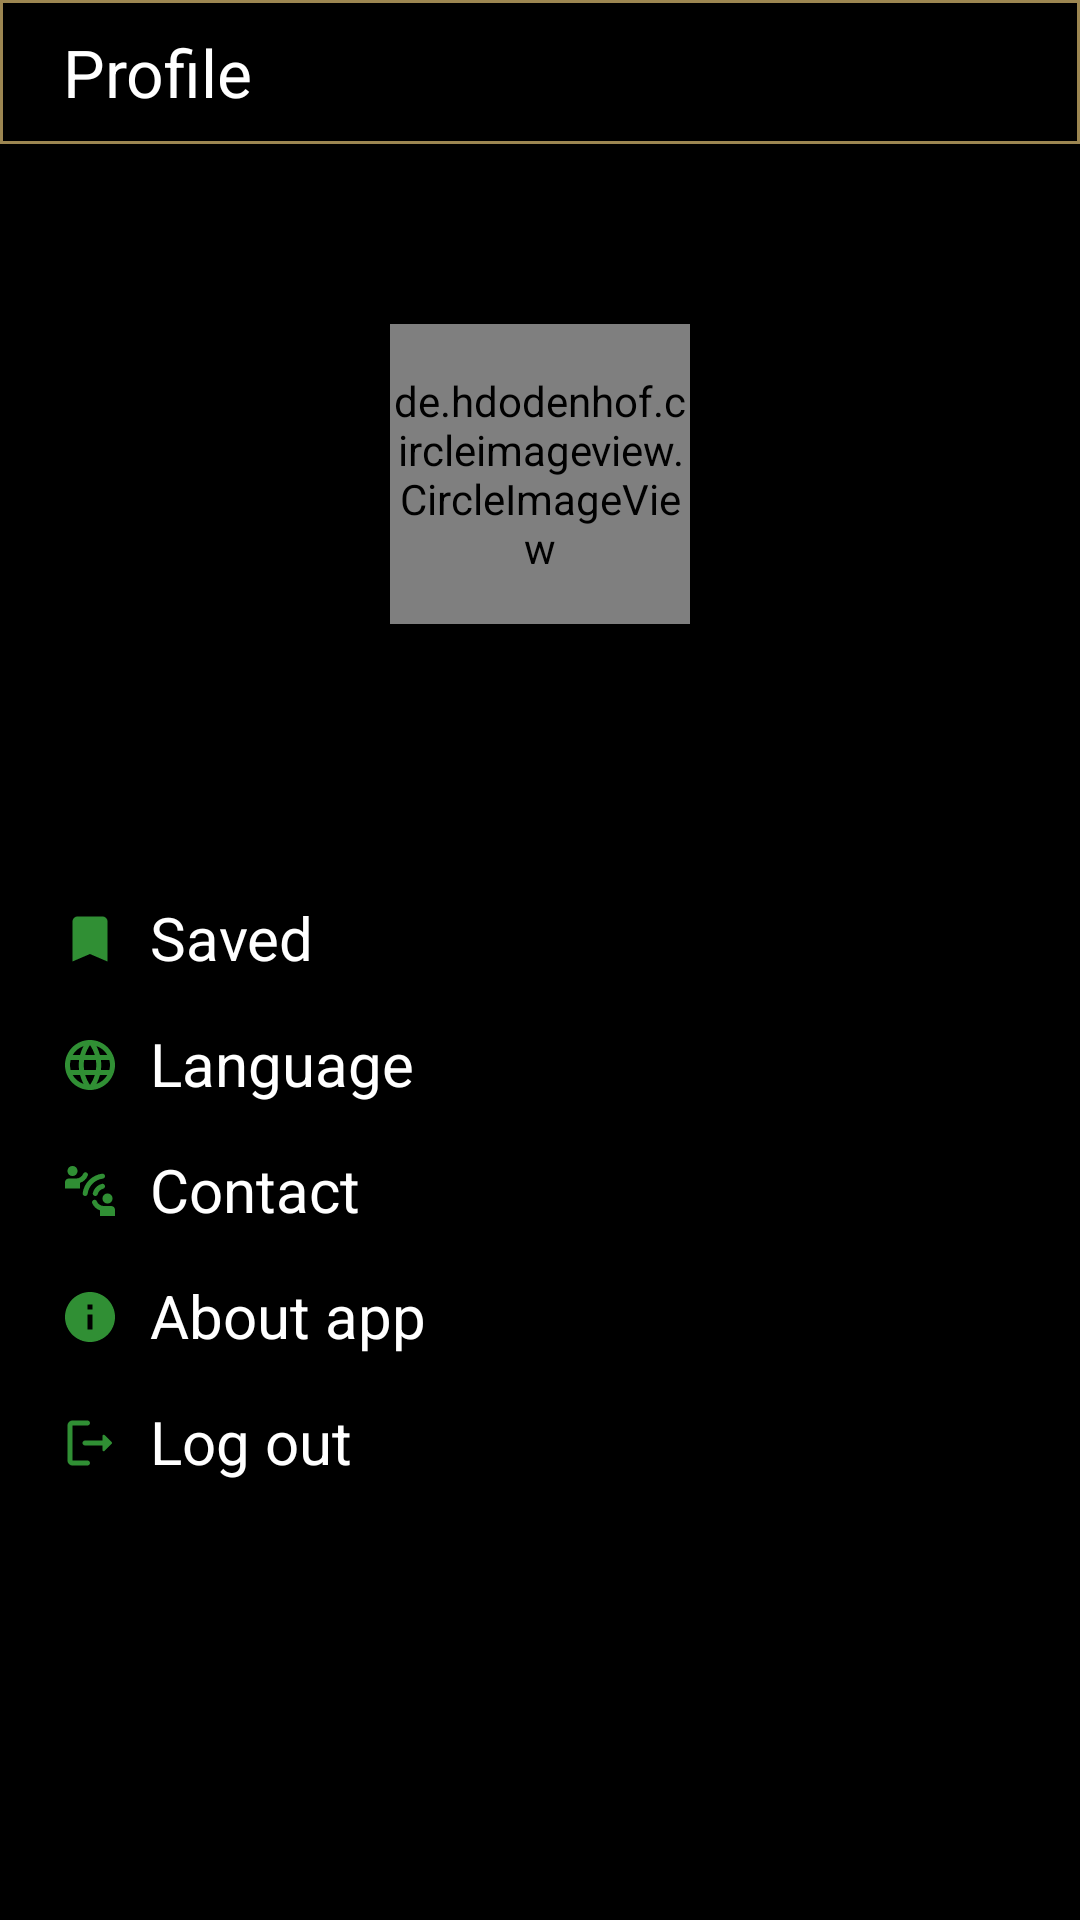

Screen size 1080x1920. Icon name, then its center in pixels as [x,y]:
bookmark: [90,939]
info: [90,1317]
